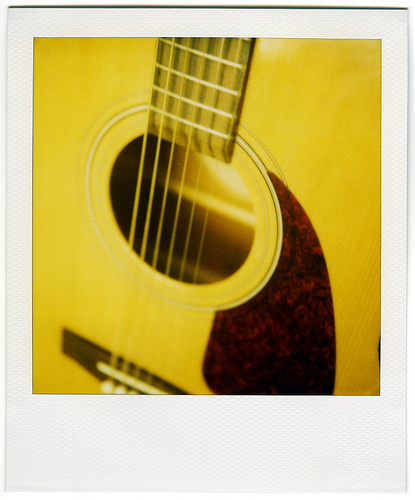guitar: (32, 40, 381, 395)
